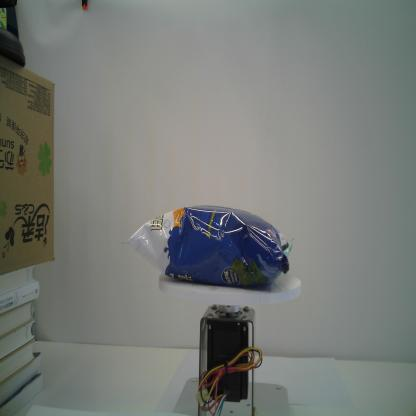Puffed Food: (121, 205, 293, 288)
